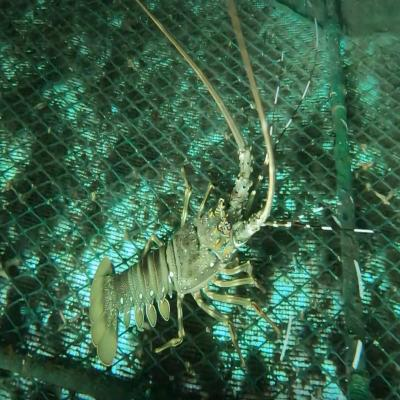lobster: (90, 187, 257, 322)
